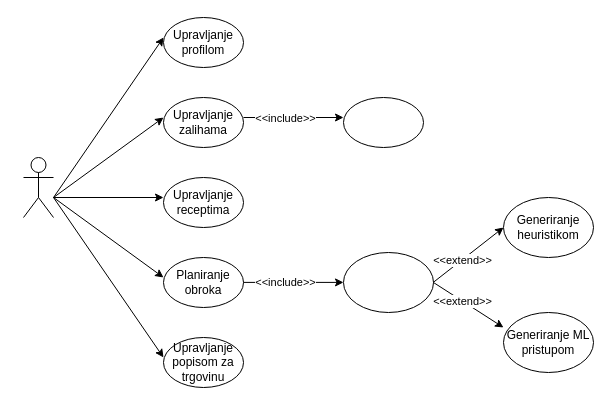
This 611x405 diagram has some shape labels left out. The shapes that lost their labels are listed below. From the top down, each one's centre as x and y in pixels, then its label:
the point at 383,122: Pregled zaliha
the point at 38,187: Korisnik
the point at 388,282: Generiranje preporuka obroka
